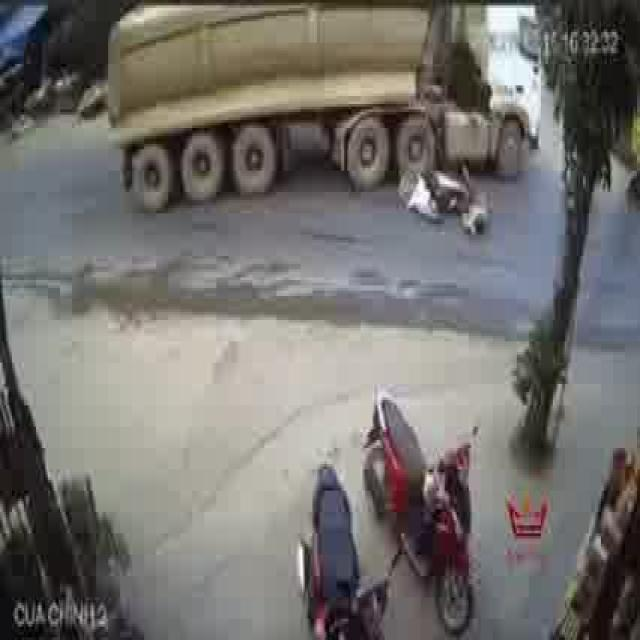multiple_accident: (373, 127, 502, 246)
